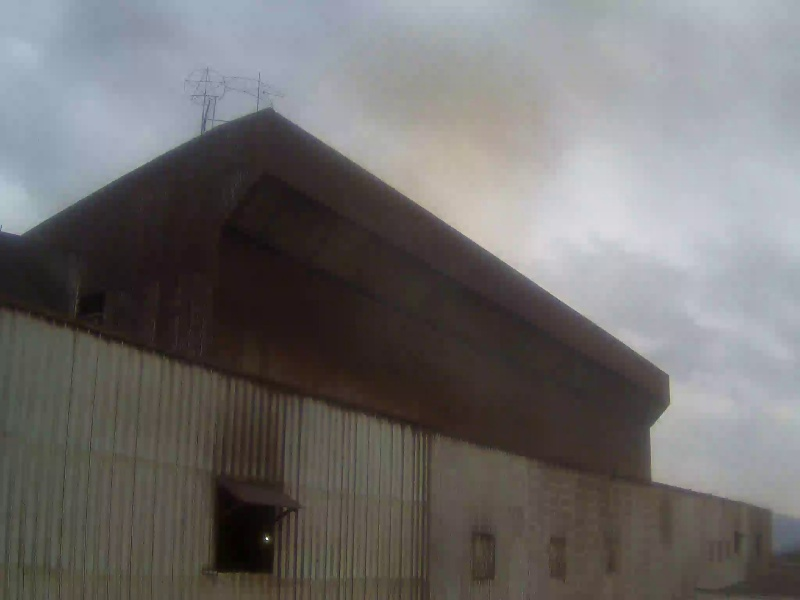Ruim: (384, 43, 546, 260)
